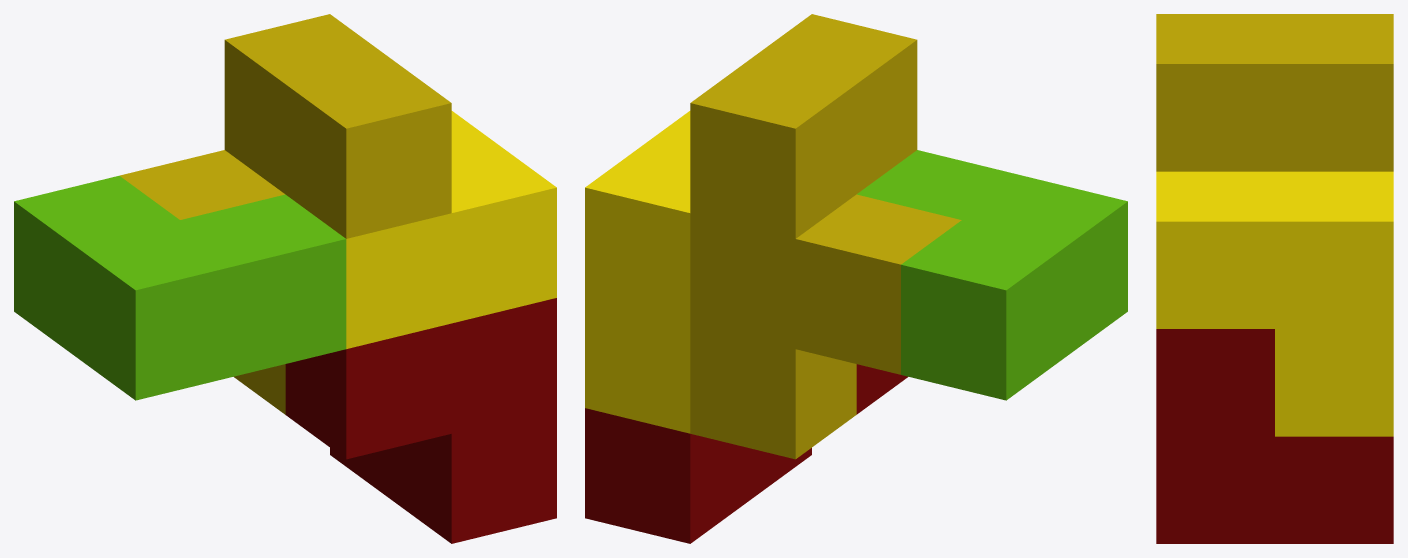
The picture shows the model from 3 angles, left to right: view 1: azimuth 30°, elevation 25°; view 2: azimuth 150°, elevation 25°; view 3: azimuth 270°, elevation 25°; orthographic projection. The views are drawn at different scales.
Visible parts, largest first — view 1: mergedBlocks(Clone); view 2: mergedBlocks(Clone); view 3: mergedBlocks(Clone).
Part boxes in pixels (<box>): mergedBlocks(Clone): <box>14,14,556,543</box>; mergedBlocks(Clone): <box>585,14,1127,543</box>; mergedBlocks(Clone): <box>1156,14,1393,543</box>.
Size of the model in its own units: 4 by 4 by 2.
Materials: 4 (4 with a texture image).
